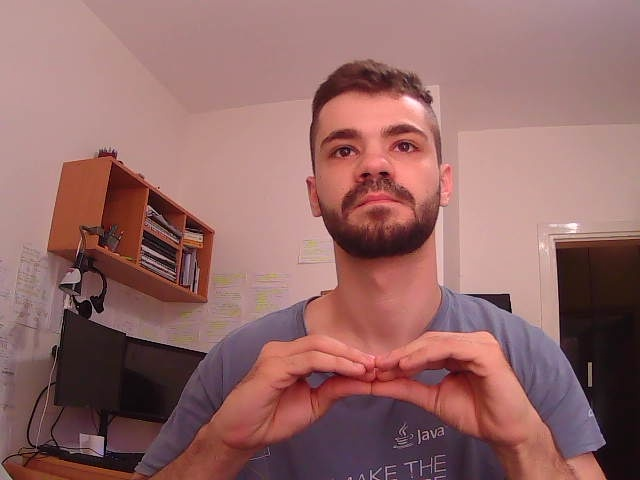b: (203, 323, 570, 466)
